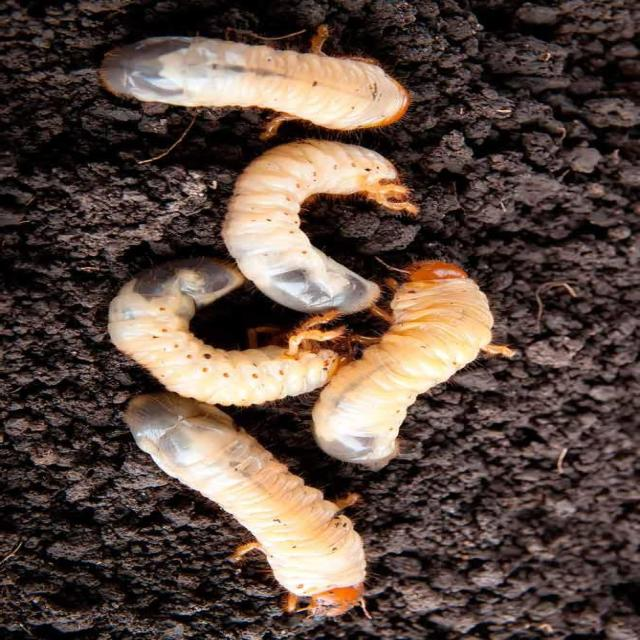grub: (112, 400, 412, 618), (313, 259, 502, 478), (99, 268, 341, 409), (226, 144, 403, 329), (88, 35, 417, 127)
